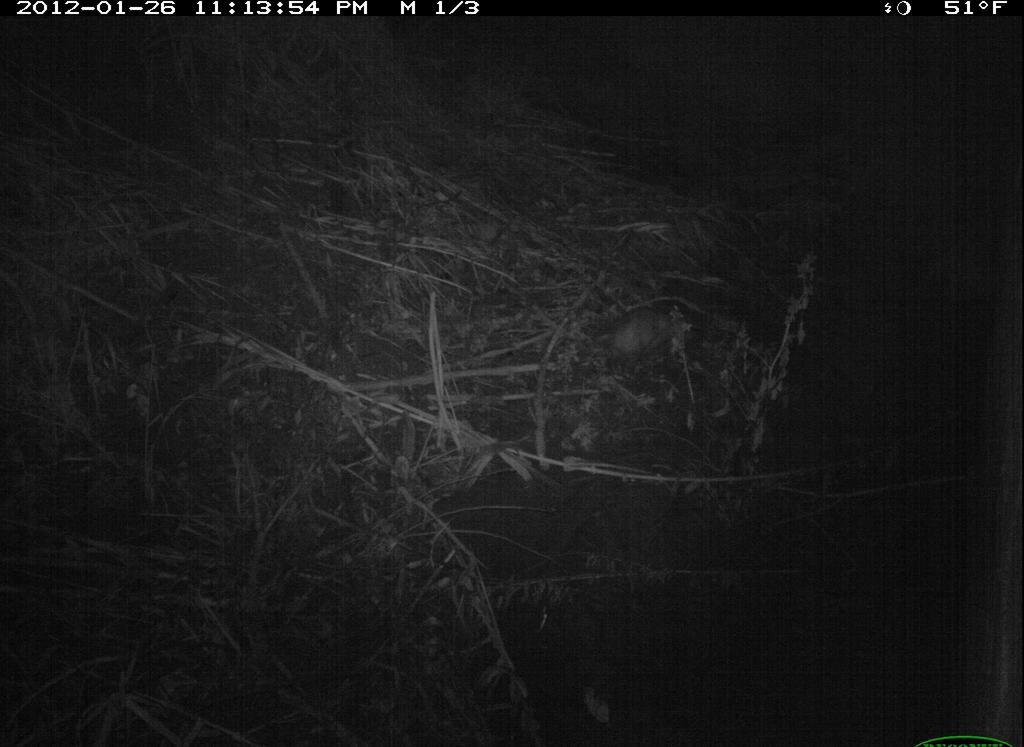opossum: (568, 296, 719, 383)
